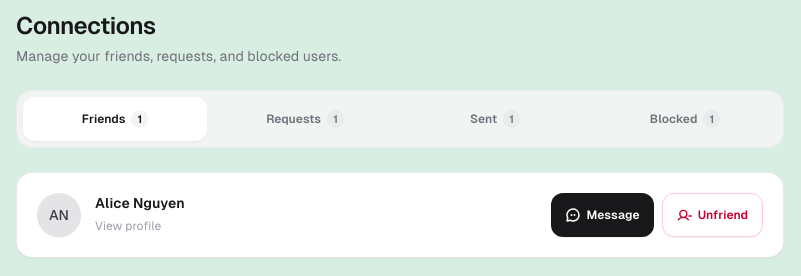
Scenario: ConnectionsPage › renders friends, requests, and blocked users in their tabs
The width and height of the screenshot is (801, 276).
Expected: the text "Alice Nguyen" is shown, [95,195,185,211]
Click the tab "Requests 1" at (305, 119), box [213,97,397,141]
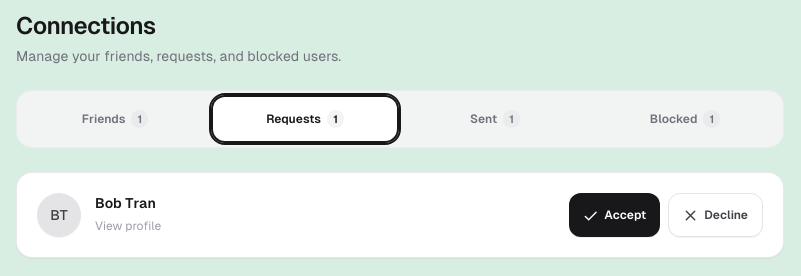
Expected: the text "Bob Tran" is shown, [95,195,156,211]
Click the tab "Sent 1" at (495, 119), box [403,97,587,141]
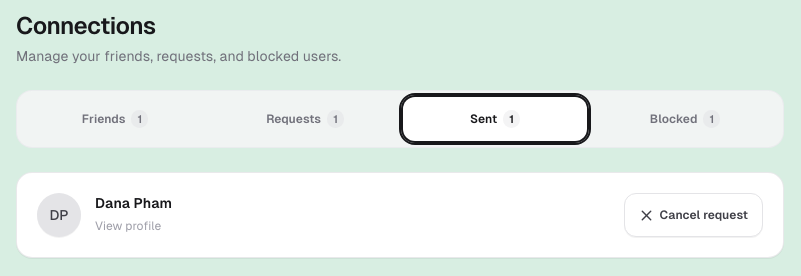
Expected: the text "Dana Pham" is shown, [95,195,172,211]
Click the tab "Blocked 1" at (685, 119), box [593,97,777,141]
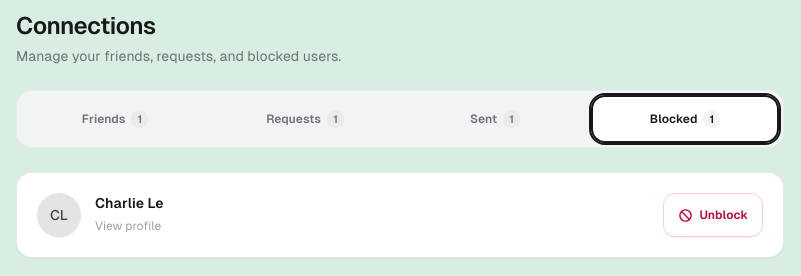
Expected: the text "Charlie Le" is shown, [95,195,164,211]
